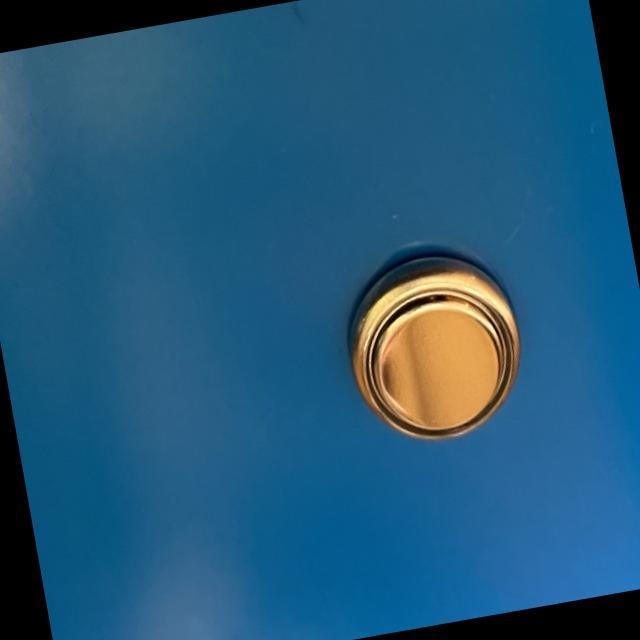COIN: (330, 240, 532, 450)
